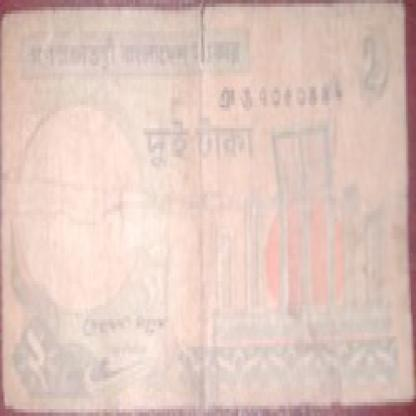two taka: (136, 118, 282, 187), (18, 322, 58, 392)
